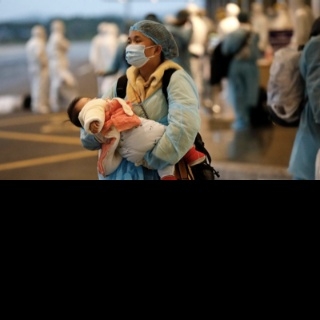with_mask: (126, 34, 152, 68)
